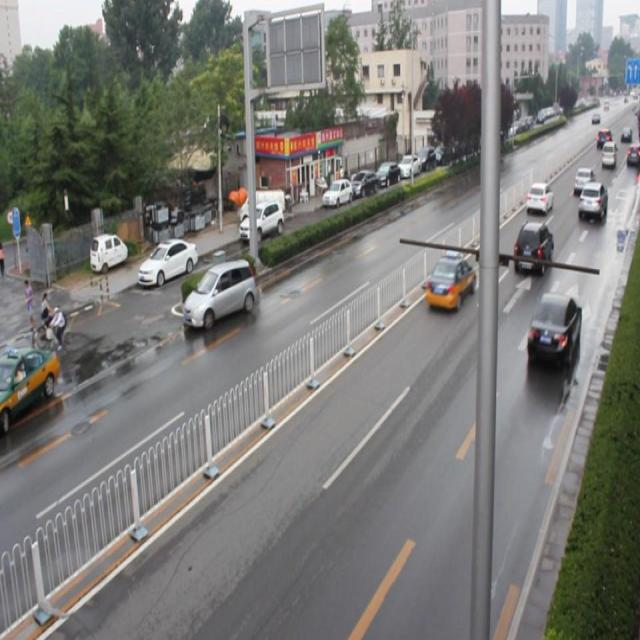car: (181, 259, 257, 335), (525, 288, 580, 366), (423, 247, 474, 315), (512, 217, 550, 272), (577, 182, 606, 220), (525, 179, 551, 213), (570, 165, 592, 194)
